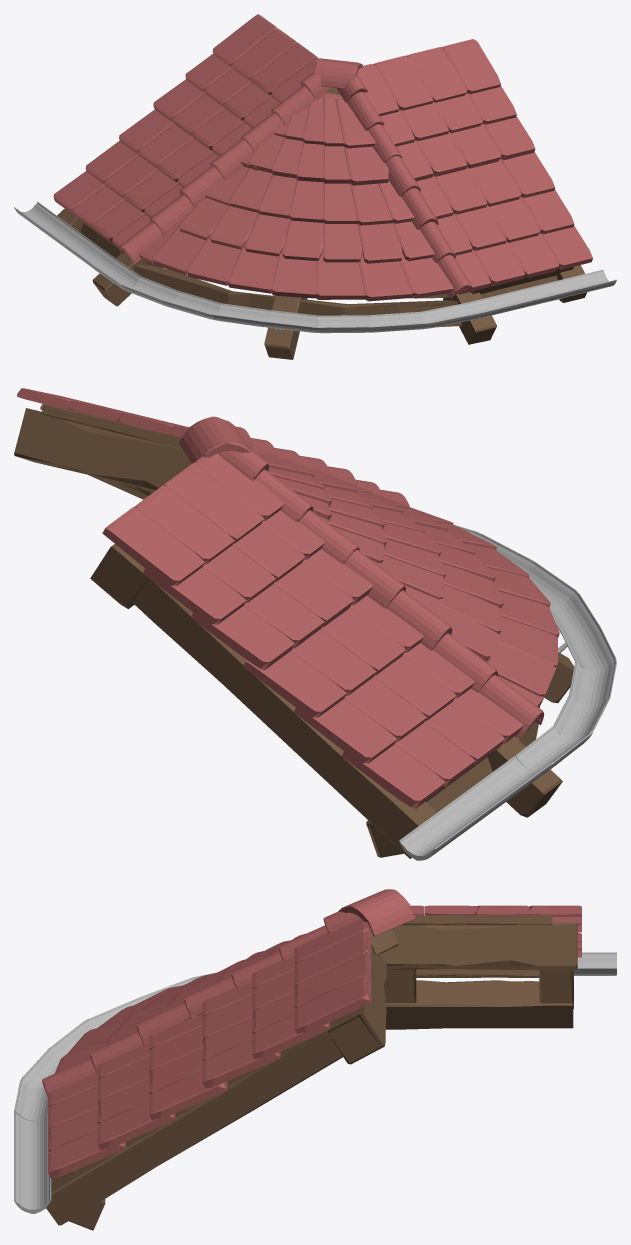
The model's file is PK_Roof_9.fbx.
3 views of the same model, one above another, from view 1: azimuth 30°, elevation 25°; view 2: azimuth 150°, elevation 25°; view 3: azimuth 270°, elevation 25° (orthographic). The views are drawn at different scales.
Parts seen in each view (by area): view 1: PK_Roof_9; view 2: PK_Roof_9; view 3: PK_Roof_9.
Part boxes in pixels (bbox=[...]): PK_Roof_9: bbox=[14, 14, 616, 359]; PK_Roof_9: bbox=[14, 388, 616, 860]; PK_Roof_9: bbox=[14, 889, 616, 1230].
Bounding box in the file's own units: 367 × 187 × 377.
